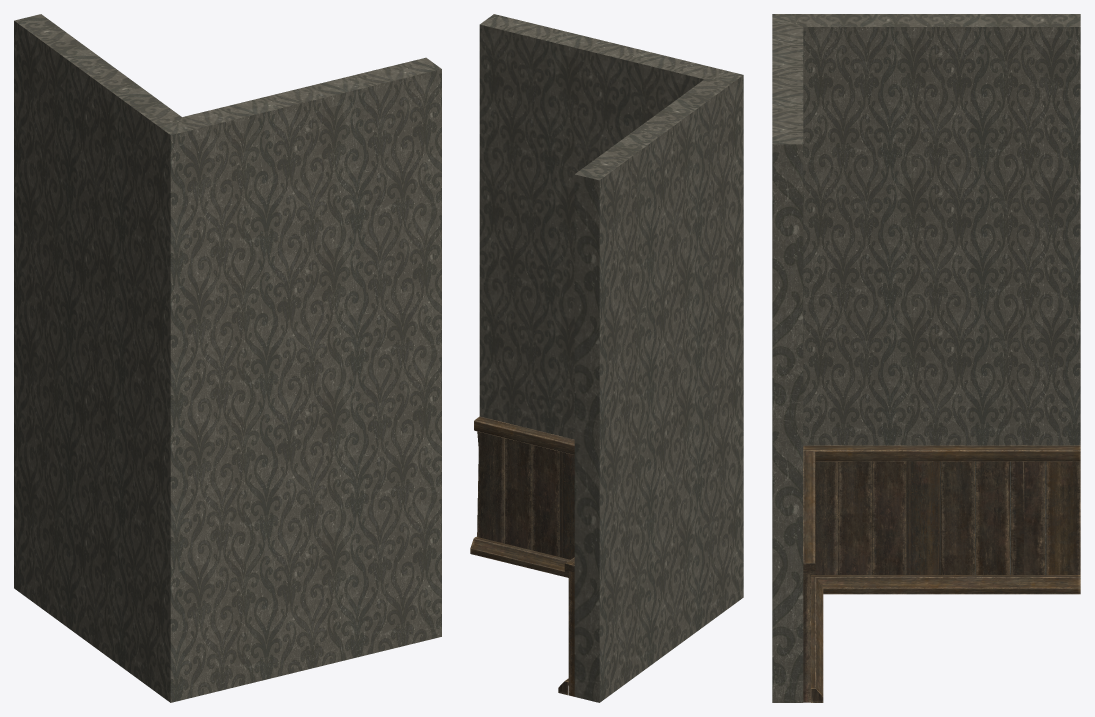
The model's file is SM_Wall_2m_Corn.fbx.
3 renders of one model, left to right at view 1: azimuth 30°, elevation 25°; view 2: azimuth 150°, elevation 25°; view 3: azimuth 270°, elevation 25°, orthographic. The views are drawn at different scales.
Parts seen in each view (by area): view 1: SM_Wall_2m_Corn; view 2: SM_Wall_2m_Corn; view 3: SM_Wall_2m_Corn.
Part boxes in pixels (bbox=[...]): SM_Wall_2m_Corn: bbox=[14, 14, 441, 702]; SM_Wall_2m_Corn: bbox=[470, 14, 743, 702]; SM_Wall_2m_Corn: bbox=[772, 14, 1080, 702].
Size of the model in its own units: 2 by 4 by 2.
